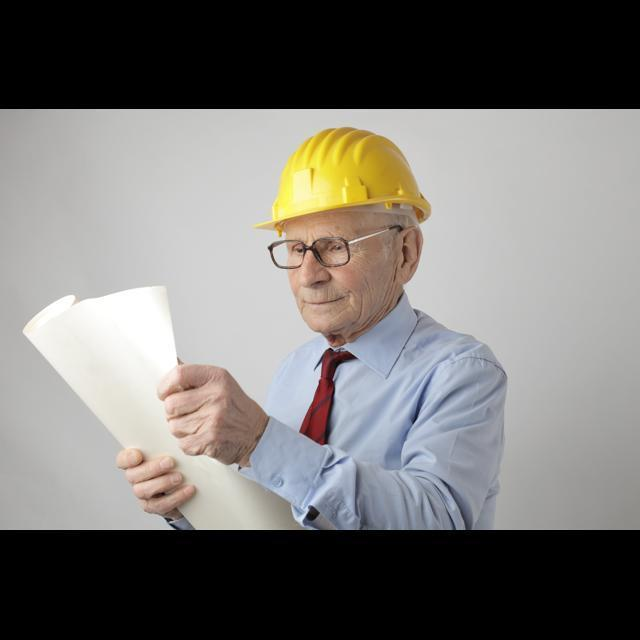Capacete: (254, 127, 430, 236)
